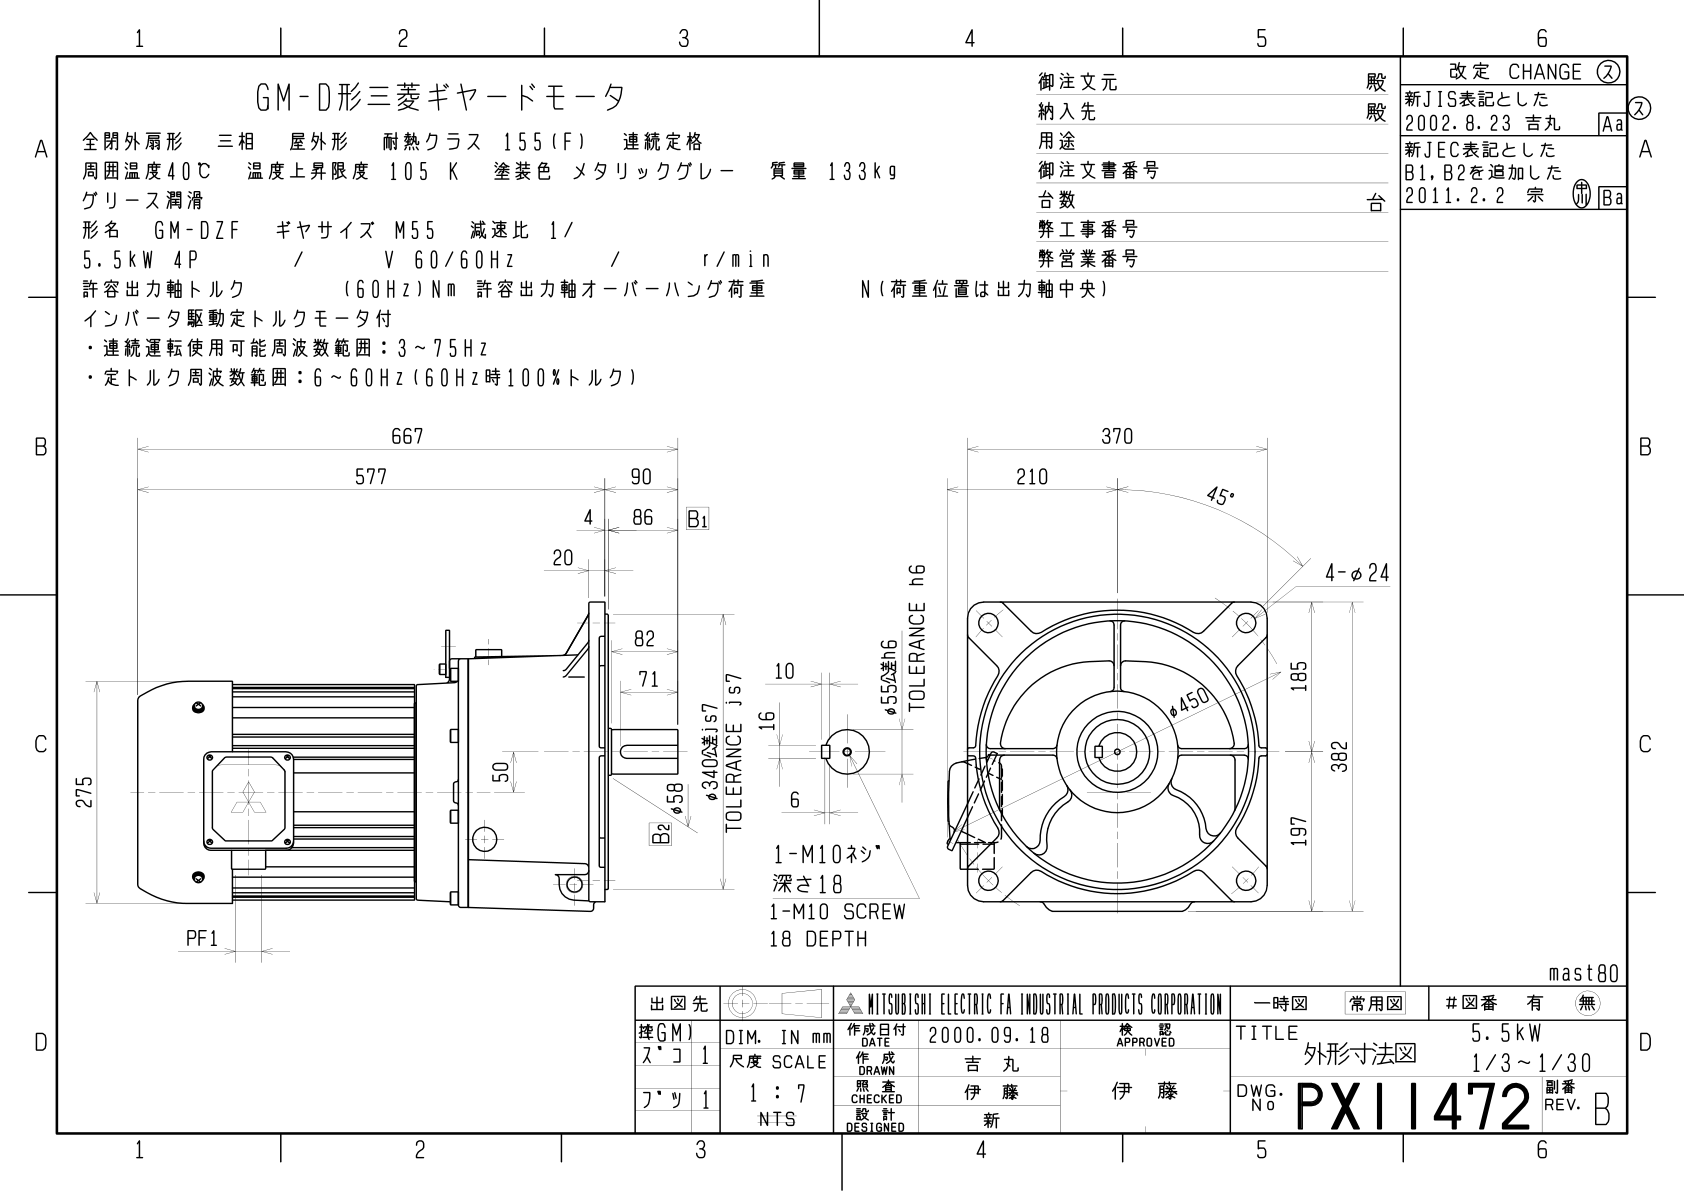GM_D_インバータ屋外_三相_フランジ: (61, 412, 1393, 980)
